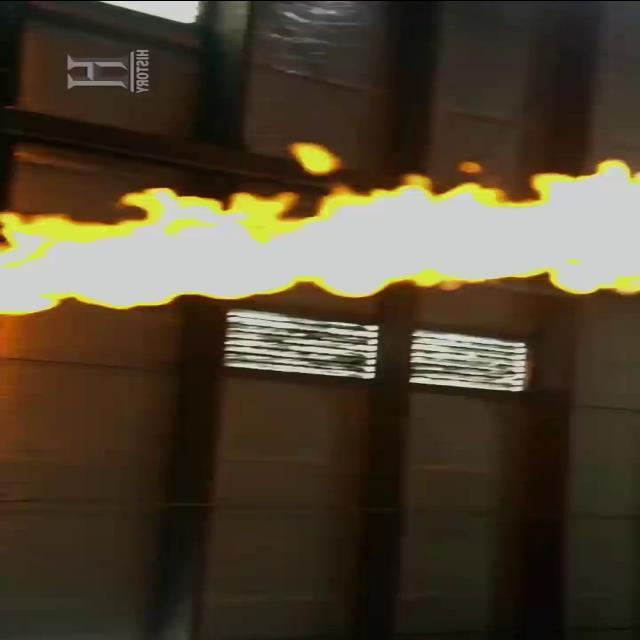Fire: (5, 140, 638, 322)
